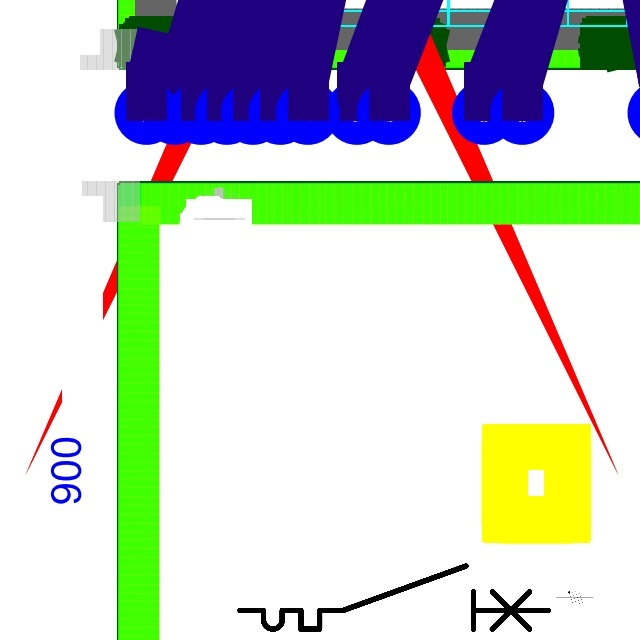interruptor_termomagnetico: (232, 558, 556, 637)
